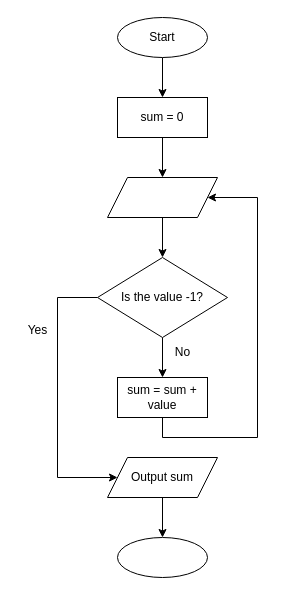
This 283x595 diagram has some shape labels left out. Here are the shapes that lost their labels. From the top down, the box of each, then its label:
(106, 176, 218, 218): Input value
(116, 536, 208, 578): Stop
